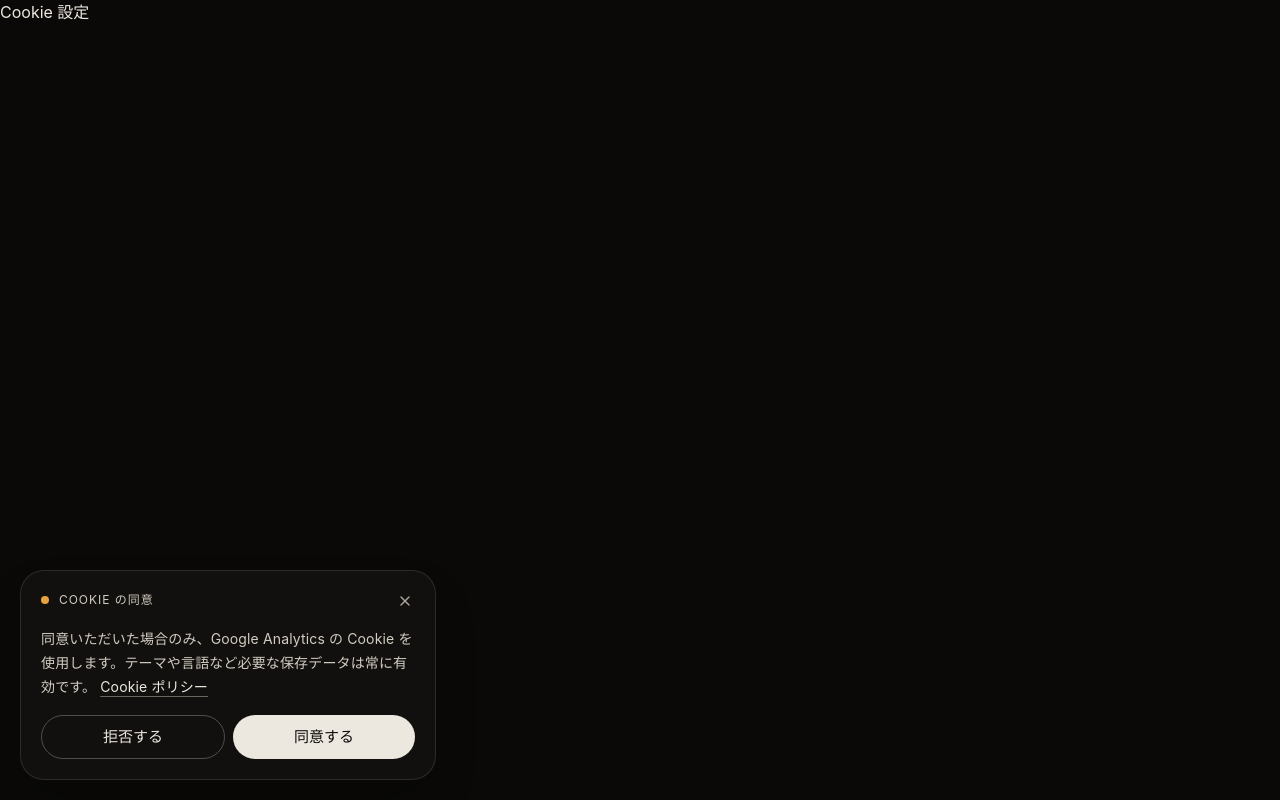
Test case: cookie consent UI › settings dialog › is labelled in the page locale
Click the button "Cookie 設定".
click(45, 12)  # box [0, 0, 89, 24]
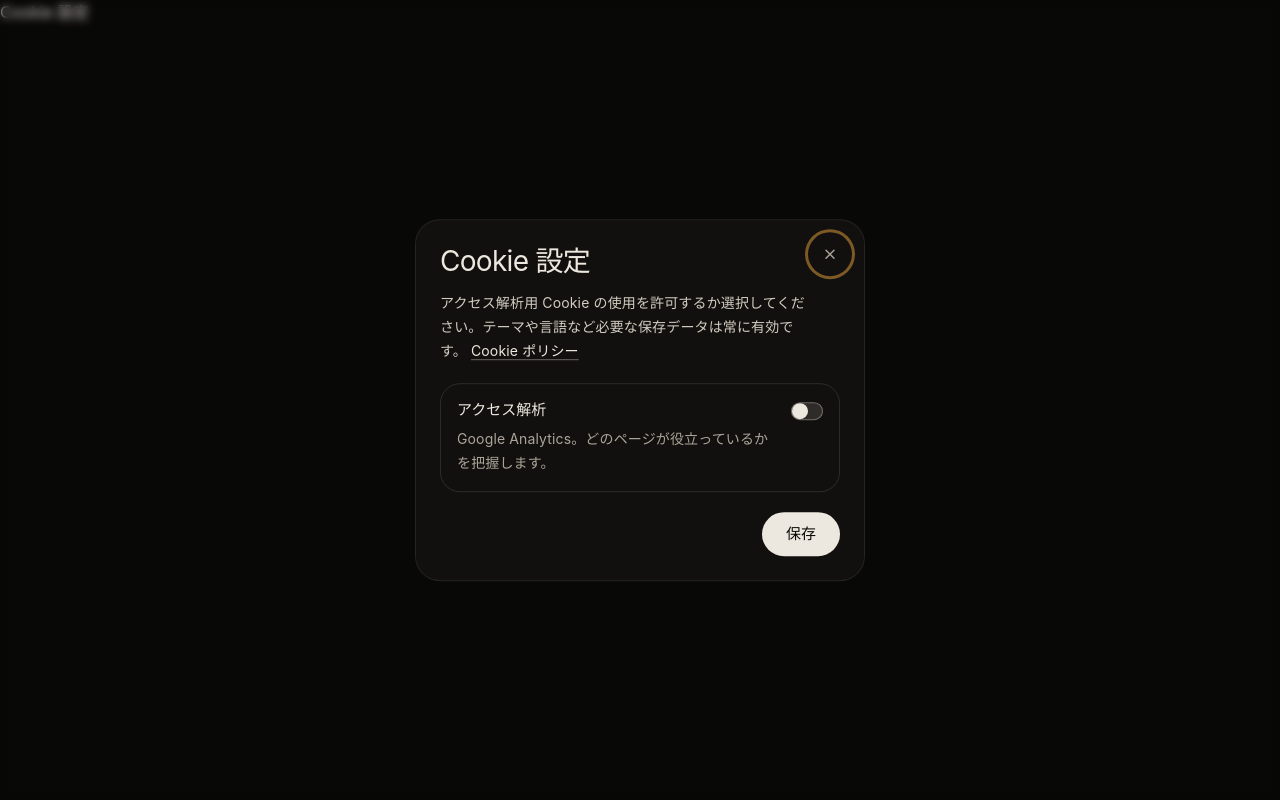
Result: the dialog "Cookie 設定" is shown at [416, 220, 864, 580]
Result: the switch named "アクセス解析" is shown at [791, 402, 823, 421]
